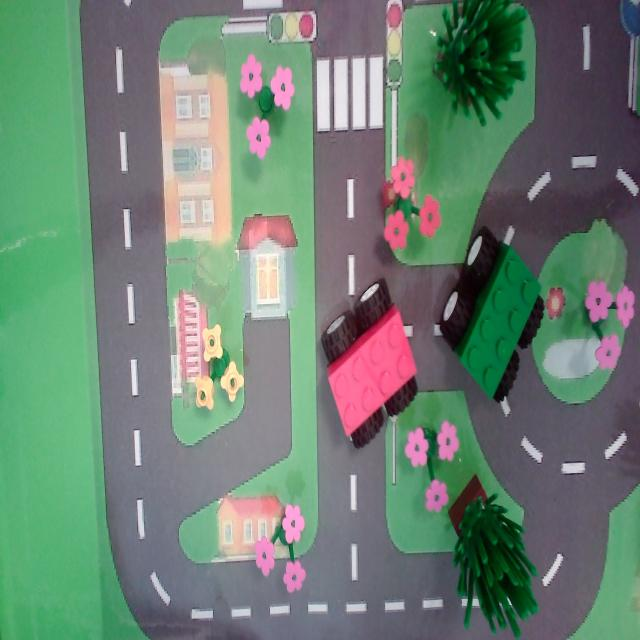Car: (311, 279, 423, 457), (438, 234, 542, 407)
Flower: (232, 46, 300, 165), (184, 310, 252, 423), (377, 150, 446, 257), (577, 268, 640, 380), (402, 413, 462, 520), (254, 490, 310, 602)
Tree: (446, 473, 537, 640), (431, 0, 533, 127)
